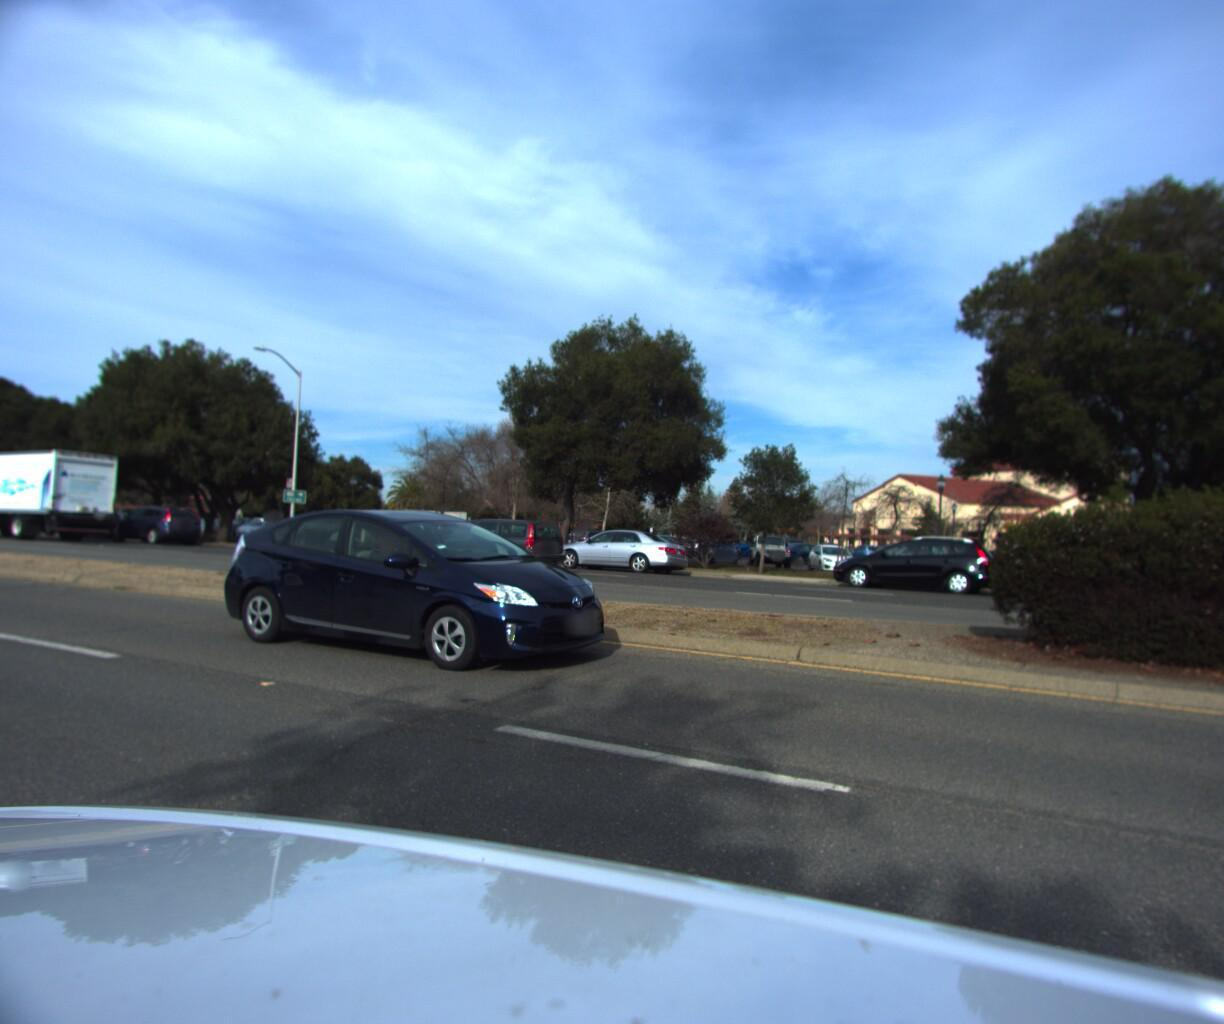car: (212, 503, 632, 684), (815, 527, 1000, 600), (414, 515, 592, 579), (536, 526, 694, 579), (103, 507, 213, 549)
